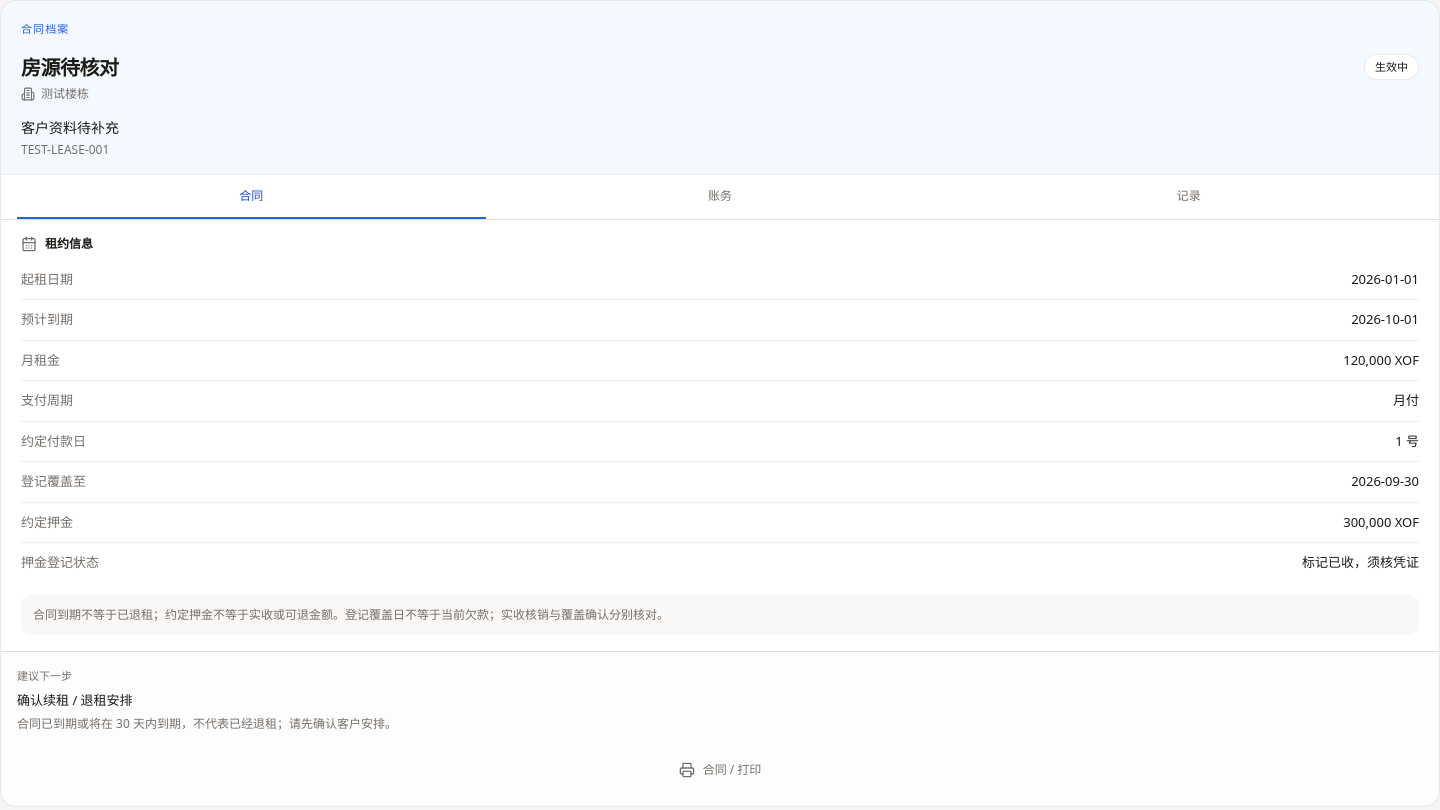
Test case: LeaseWorkbenchInspector single contract dossier › separates managed receivable applications, operating cash, and deposit movements
Click the tab "账务" at {"x": 720, "y": 196}, box top-left (486, 174), bottom-right (954, 218)
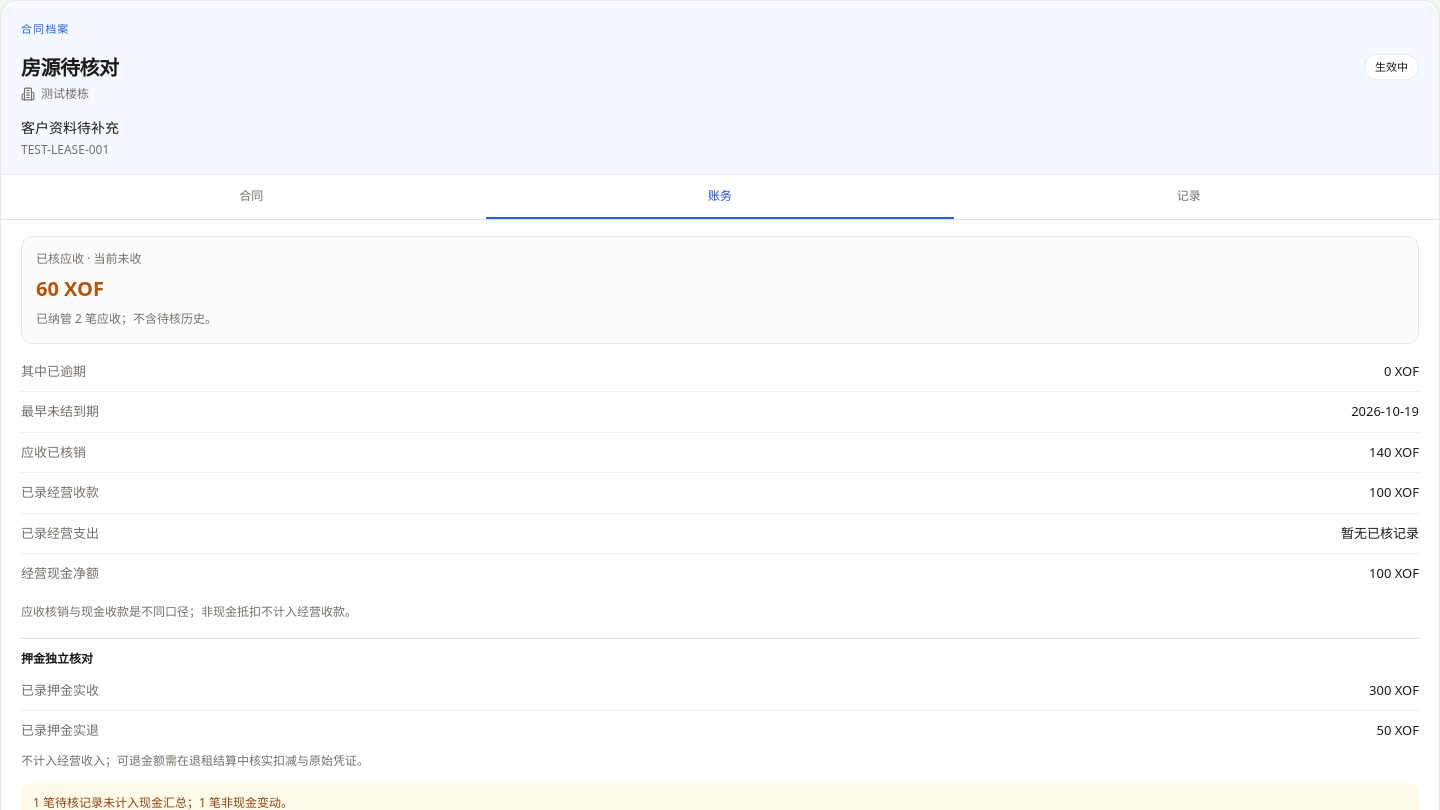
Result: the text "140 XOF" is shown at top-left (1369, 442), bottom-right (1419, 460)
Result: the text "0 XOF" is shown at top-left (1384, 362), bottom-right (1419, 380)
Result: the text "60 XOF" is shown at top-left (36, 274), bottom-right (104, 302)
